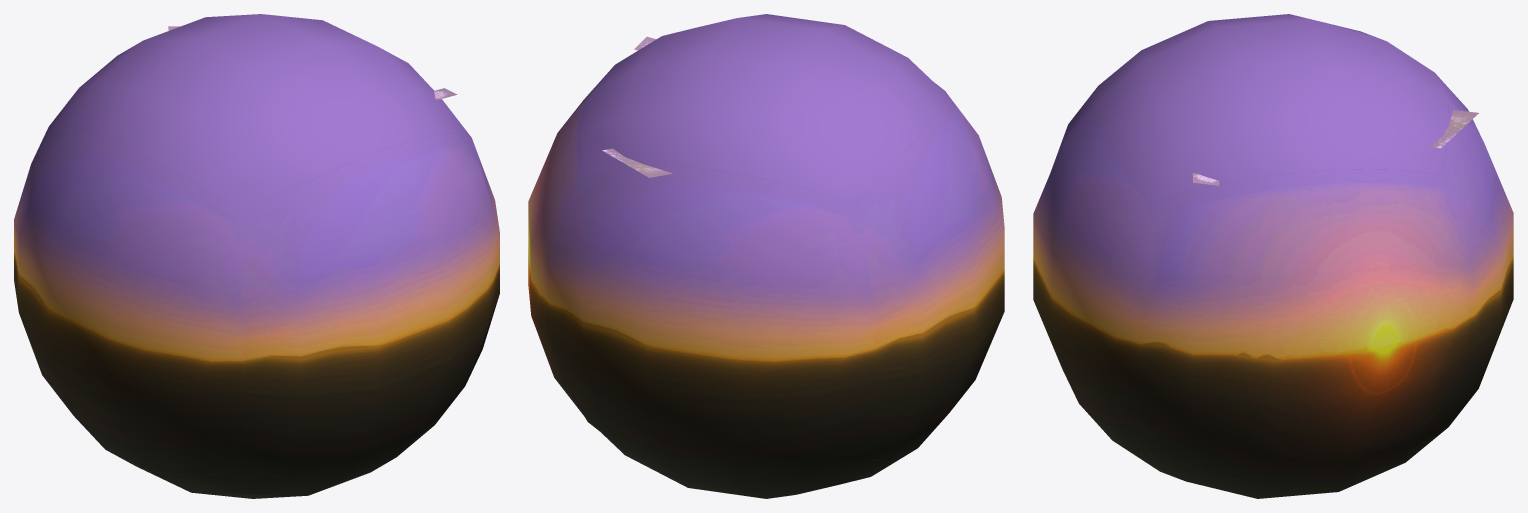
The model's file is LM_SKYBOX.fbx.
The picture shows the model from 3 angles, left to right: view 1: azimuth 30°, elevation 25°; view 2: azimuth 150°, elevation 25°; view 3: azimuth 270°, elevation 25°; orthographic projection.
Parts seen in each view (by area): view 1: LM_SKYBOX; view 2: LM_SKYBOX; view 3: LM_SKYBOX.
Boxes of the visible parts, x1,y1,x2,y2 form: LM_SKYBOX: (14, 14, 499, 498); LM_SKYBOX: (528, 14, 1004, 498); LM_SKYBOX: (1033, 14, 1513, 498).
Bounding box in the file's own units: 539343 × 528872 × 539343.
8 materials, 8 textured.
